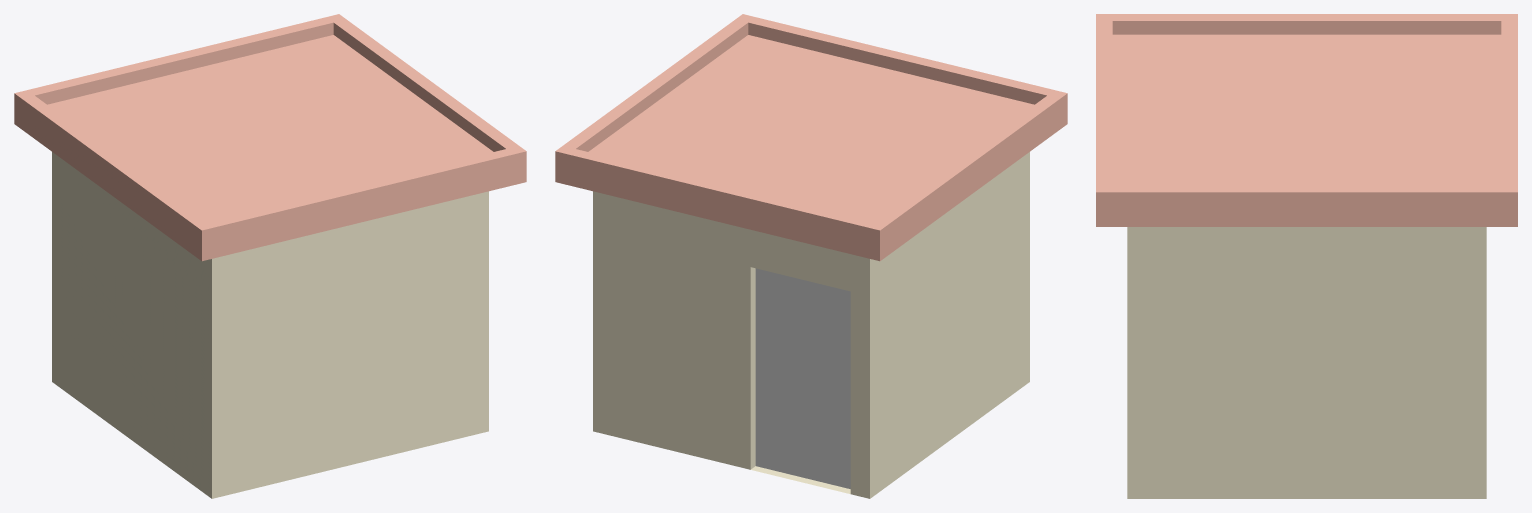
Rendered from RooftopAcces.fbx.
3 renders of one model, left to right at view 1: azimuth 30°, elevation 25°; view 2: azimuth 150°, elevation 25°; view 3: azimuth 270°, elevation 25°, orthographic. The views are drawn at different scales.
Parts seen in each view (by area): view 1: Cube; view 2: Cube; view 3: Cube.
Boxes of the visible parts, x1,y1,x2,y2 form: Cube: (14,14,526,498); Cube: (555,14,1067,498); Cube: (1096,14,1517,498).
Bounding box in the file's own units: 469 × 469 × 393.
